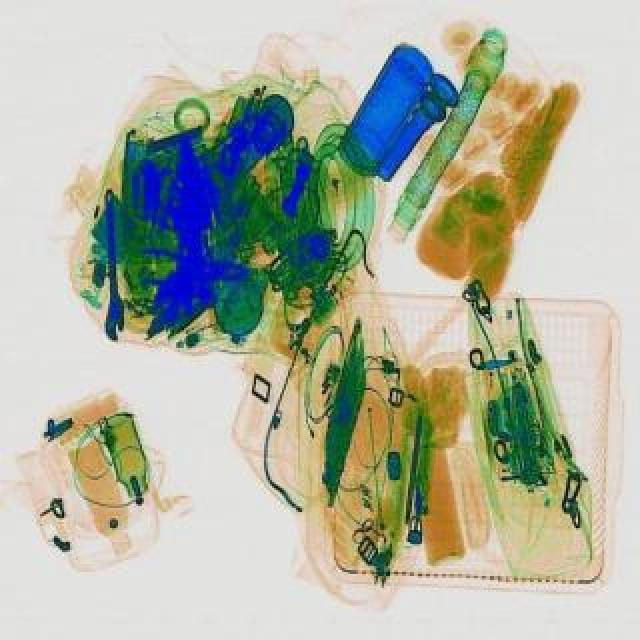scissors: (96, 186, 126, 338)
